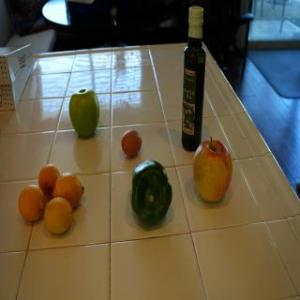bell_pepper: (124, 157, 178, 228)
egg: (120, 126, 144, 160)
